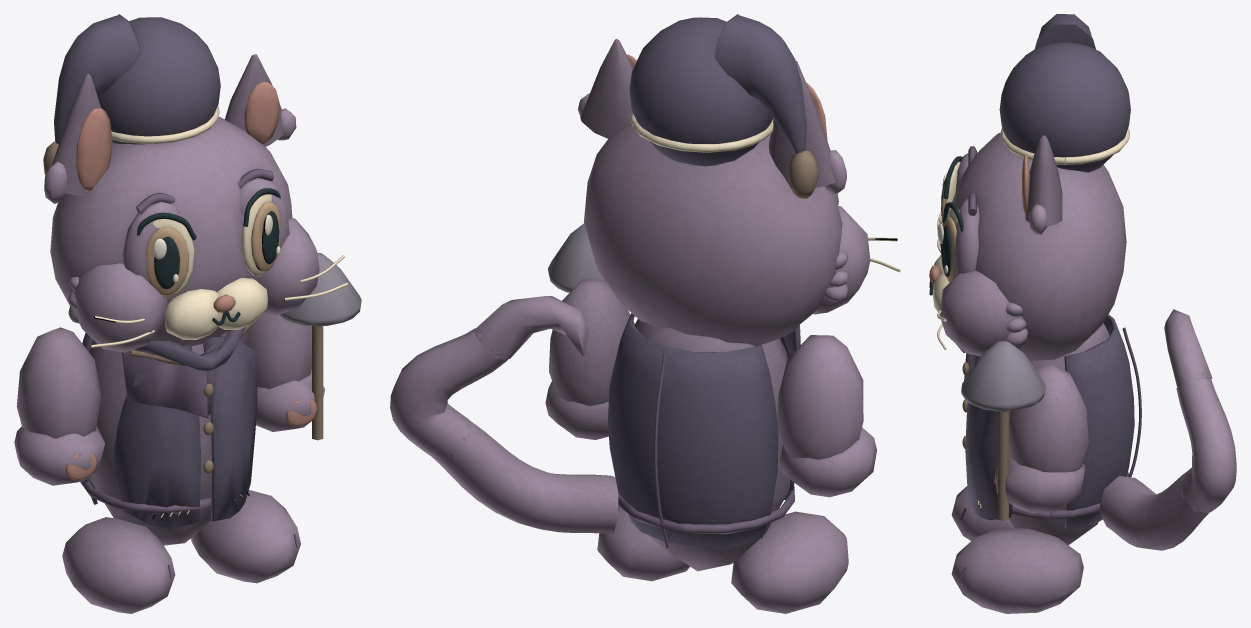
Rendered from velvet.glb.
3 views of the same model, side by side, from view 1: azimuth 30°, elevation 25°; view 2: azimuth 150°, elevation 25°; view 3: azimuth 270°, elevation 25° (orthographic). The views are drawn at different scales.
Parts seen in each view (by area): view 1: cheek-head, pear-body, arm, hind-paw, hind-paw.001, arm.001, porcelain-eye, rounded-ear-L, bell-wand-shaft, rounded-ear-R, nose; view 2: cheek-head, pear-body, arm, tail-root, hind-paw, arm.001, tail-mid, tail-tip, rounded-ear-R, hind-paw.001, rounded-ear-L, bell-wand-shaft; view 3: cheek-head, pear-body, arm.001, hind-paw.001, tail-mid, tail-root, bell-wand-shaft, rounded-ear-R, tail-tip, porcelain-eye, hind-paw.
Part boxes in pixels (<box>): cheek-head: <box>43,14,347,352</box>; pear-body: <box>80,324,257,545</box>; arm: <box>14,327,104,485</box>; hind-paw: <box>62,517,175,613</box>; hind-paw.001: <box>191,490,300,583</box>; arm.001: <box>248,313,325,431</box>; porcelain-eye: <box>137,188,280,298</box>; rounded-ear-L: <box>44,73,112,203</box>; bell-wand-shaft: <box>279,252,361,440</box>; rounded-ear-R: <box>225,54,296,146</box>; nose: <box>212,294,240,325</box>; cheek-head: <box>584,14,900,346</box>; pear-body: <box>608,313,800,571</box>; arm: <box>777,335,876,497</box>; tail-root: <box>431,420,618,533</box>; hind-paw: <box>731,511,848,613</box>; arm.001: <box>545,279,634,439</box>; tail-mid: <box>390,328,507,458</box>; tail-tip: <box>473,296,588,360</box>; rounded-ear-R: <box>577,39,636,139</box>; hind-paw.001: <box>597,506,689,581</box>; rounded-ear-L: <box>769,61,846,193</box>; bell-wand-shaft: <box>548,223,604,292</box>; cheek-head: <box>932,14,1130,360</box>; pear-body: <box>956,314,1141,545</box>; arm.001: <box>994,363,1088,513</box>; hind-paw.001: <box>951,528,1083,613</box>; tail-mid: <box>1176,378,1236,512</box>; tail-root: <box>1099,470,1209,550</box>; bell-wand-shaft: <box>961,341,1045,520</box>; rounded-ear-R: <box>1022,135,1062,234</box>; tail-tip: <box>1164,309,1212,387</box>; porcelain-eye: <box>937,156,963,282</box>; hind-paw: <box>951,486,1012,540</box>.
Bounding box in the file's own units: 1.08 × 1.62 × 0.8362.
1 material, 1 textured.
